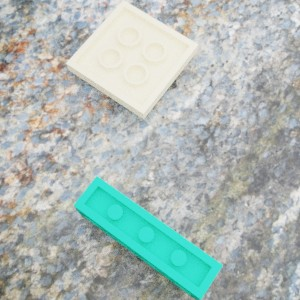lego: (73, 175, 223, 299), (66, 0, 198, 119)
